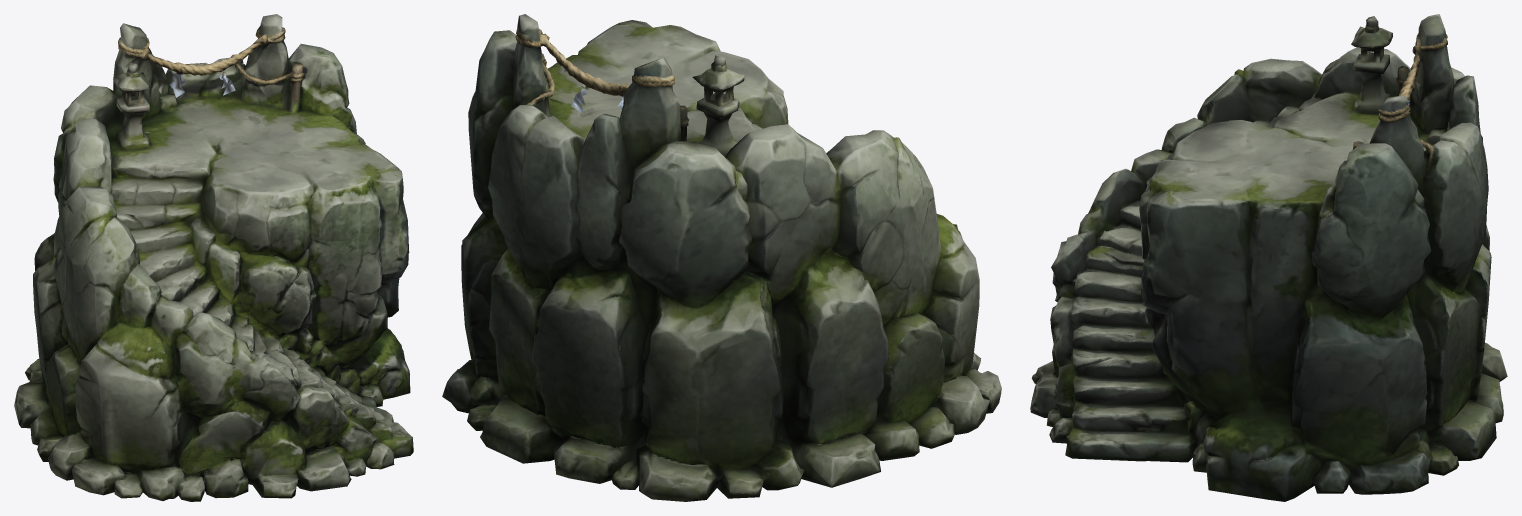
The model's file is ShrineRock.gltf.
The picture shows the model from 3 angles, left to right: view 1: azimuth 30°, elevation 25°; view 2: azimuth 150°, elevation 25°; view 3: azimuth 270°, elevation 25°; orthographic projection. The views are drawn at different scales.
Parts seen in each view (by area): view 1: lo; view 2: lo; view 3: lo.
Part boxes in pixels (x1,y1,x2,y2): lo: (14,14,413,501); lo: (442,14,1001,501); lo: (1030,14,1507,501).
Bounding box in the file's own units: 5.8 × 5.02 × 5.76.
Materials: 1 (1 with a texture image).
